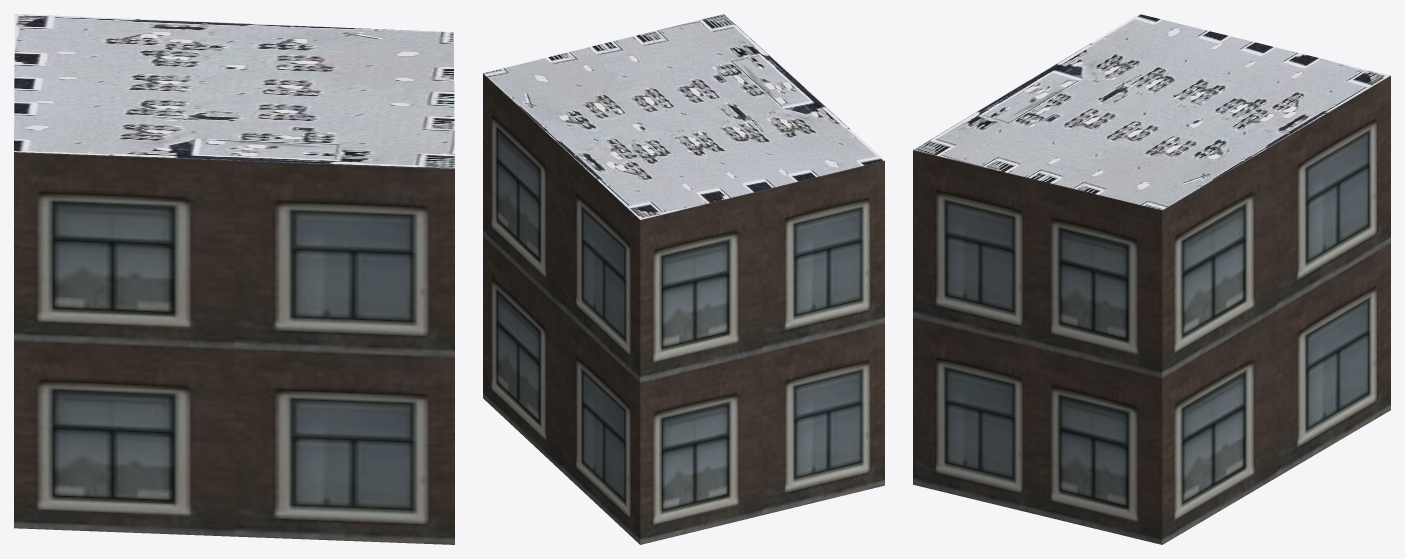
The model's file is ResTex__632.fbx.
3 renders of one model, left to right at view 1: azimuth 30°, elevation 25°; view 2: azimuth 150°, elevation 25°; view 3: azimuth 270°, elevation 25°, orthographic. The views are drawn at different scales.
Parts seen in each view (by area): view 1: CityEngineMaterial_16_m, CityEngineMaterial_15_m; view 2: CityEngineMaterial_16_m, CityEngineMaterial_15_m; view 3: CityEngineMaterial_16_m, CityEngineMaterial_15_m.
Part boxes in pixels (left/top/right/bottom): CityEngineMaterial_16_m: left=14, top=152, right=454, bottom=544; CityEngineMaterial_15_m: left=14, top=14, right=454, bottom=168; CityEngineMaterial_16_m: left=483, top=73, right=884, bottom=544; CityEngineMaterial_15_m: left=483, top=14, right=884, bottom=219; CityEngineMaterial_16_m: left=913, top=75, right=1390, bottom=544; CityEngineMaterial_15_m: left=913, top=14, right=1390, bottom=210.
Bounding box in the file's own units: 7.55 × 6 × 7.76.
Materials: 2 (2 with a texture image).
